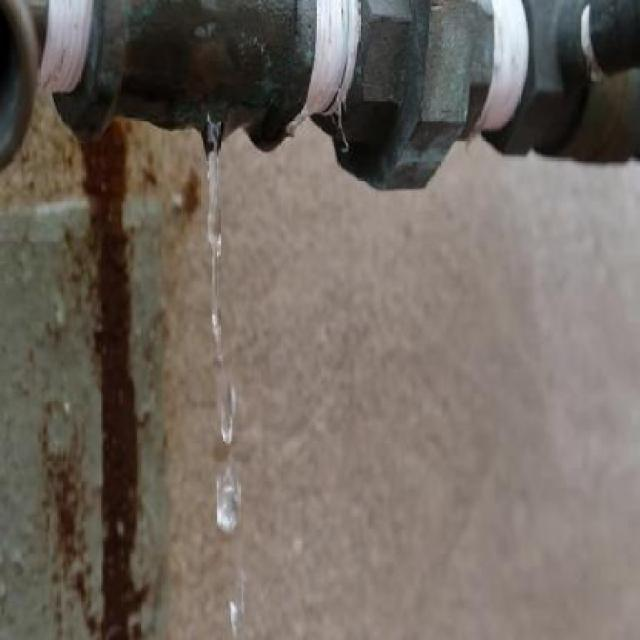water drop: (200, 111, 226, 298), (215, 377, 237, 444), (215, 472, 238, 532), (230, 579, 248, 640), (212, 306, 226, 361)
